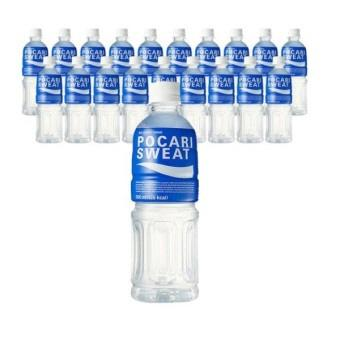pocarisweat: (129, 80, 199, 303), (210, 55, 241, 144), (237, 55, 265, 146), (37, 57, 64, 146), (93, 59, 120, 144), (268, 57, 293, 146), (65, 57, 89, 147)
